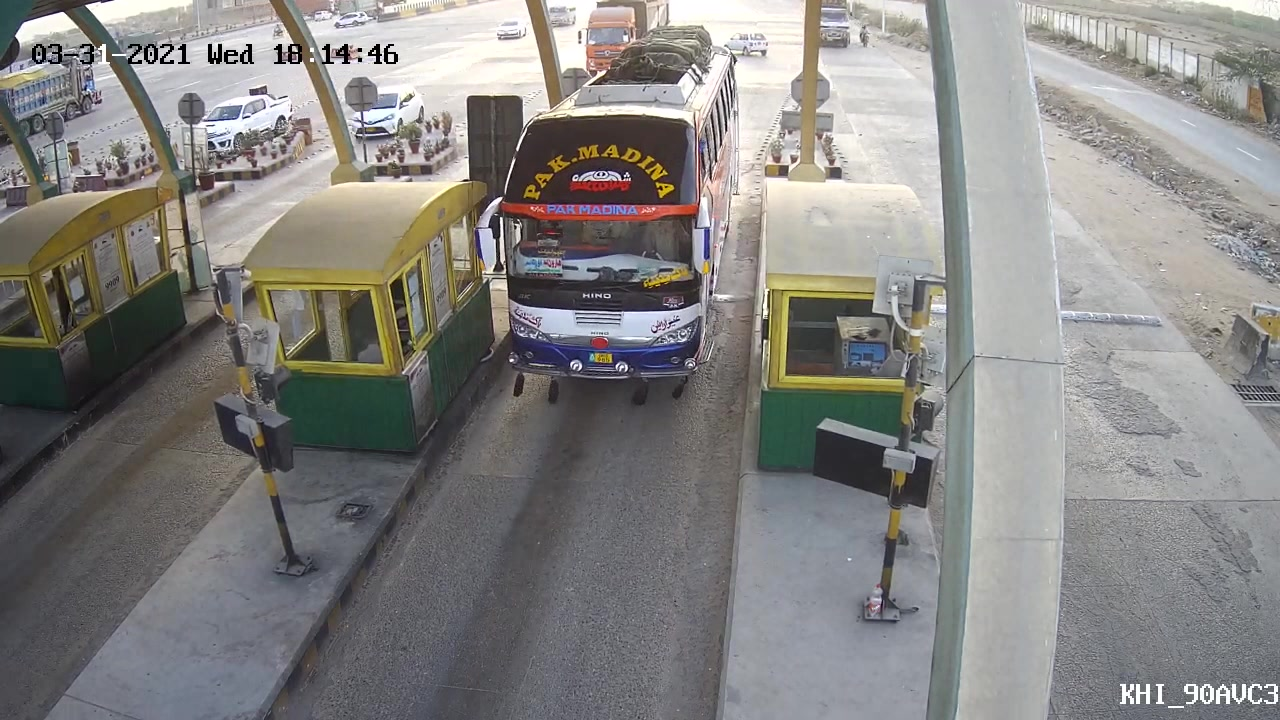F4: (467, 70, 734, 405)
